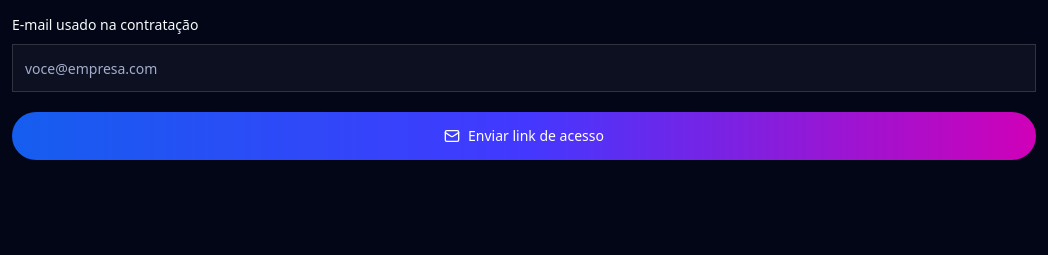
Test: PortalAccessForm › mantém o formulário disponível quando o envio falha
In the field labelled "E-mail usado na contratação": point(524, 68) [12,44,1036,92], type "cliente@example.com"
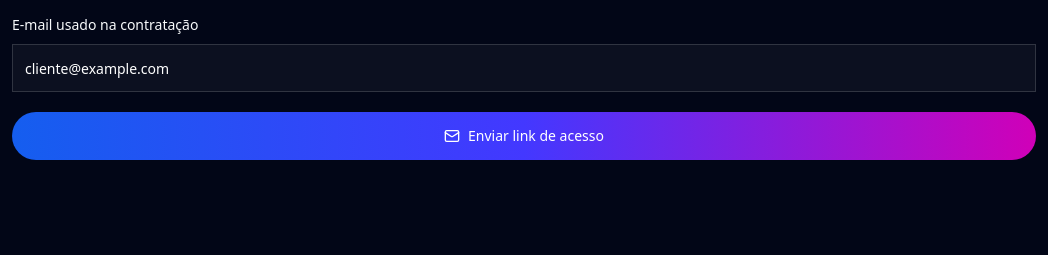
Click the button "Enviar link de acesso": point(524, 136) [12,112,1036,160]
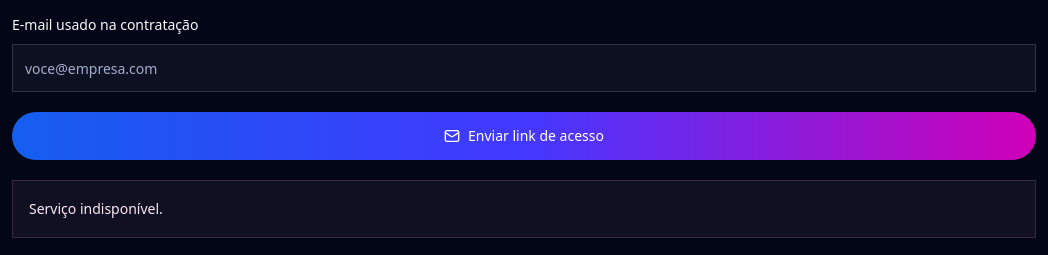
expect the message reads "Serviço indisponível.": met, box [29,199,163,218]
